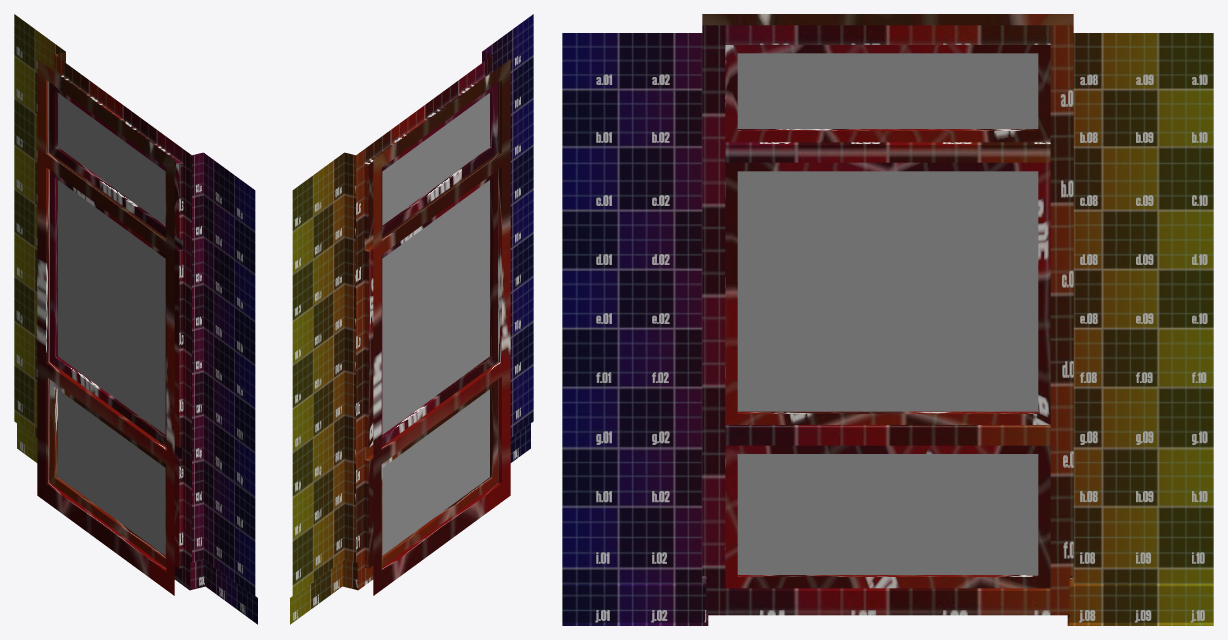
Rendered from floorToCeiling_window01.fbx.
The picture shows the model from 3 angles, left to right: view 1: azimuth 30°, elevation 25°; view 2: azimuth 150°, elevation 25°; view 3: azimuth 270°, elevation 25°; orthographic projection. The views are drawn at different scales.
Parts seen in each view (by area): view 1: floorToCeiling_window01; view 2: floorToCeiling_window01; view 3: floorToCeiling_window01.
Boxes of the visible parts, x1=… form: floorToCeiling_window01: x1=14, y1=14, x2=257, y2=624; floorToCeiling_window01: x1=290, y1=14, x2=533, y2=624; floorToCeiling_window01: x1=562, y1=14, x2=1213, y2=625.
Size of the model in its own units: 19.84 by 250 by 250.
2 materials, 1 textured.
